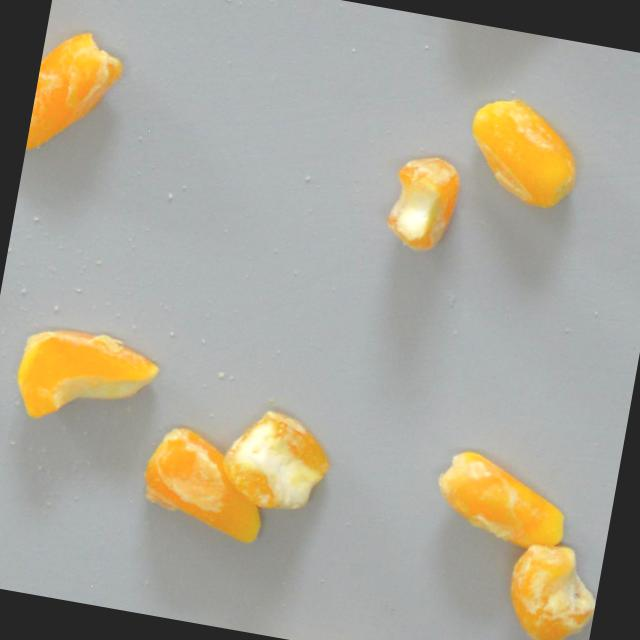pelicula: (8, 319, 164, 442), (130, 420, 276, 548), (426, 446, 574, 555), (458, 91, 586, 214), (25, 21, 129, 166), (216, 400, 335, 518), (377, 149, 461, 259)
punto_negro: (498, 536, 604, 640)
